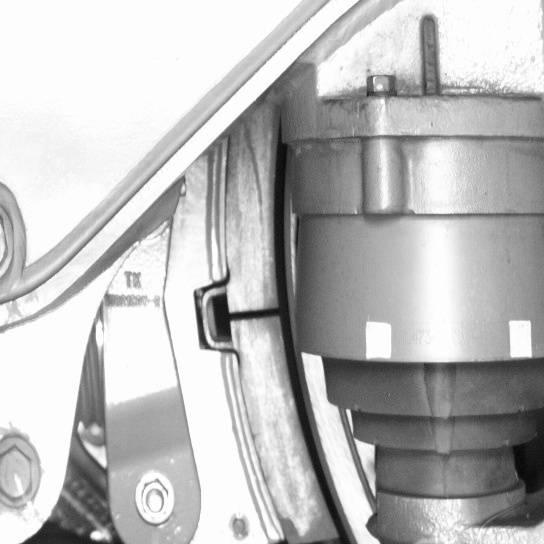KnifeSwitch: (227, 137, 357, 540)
